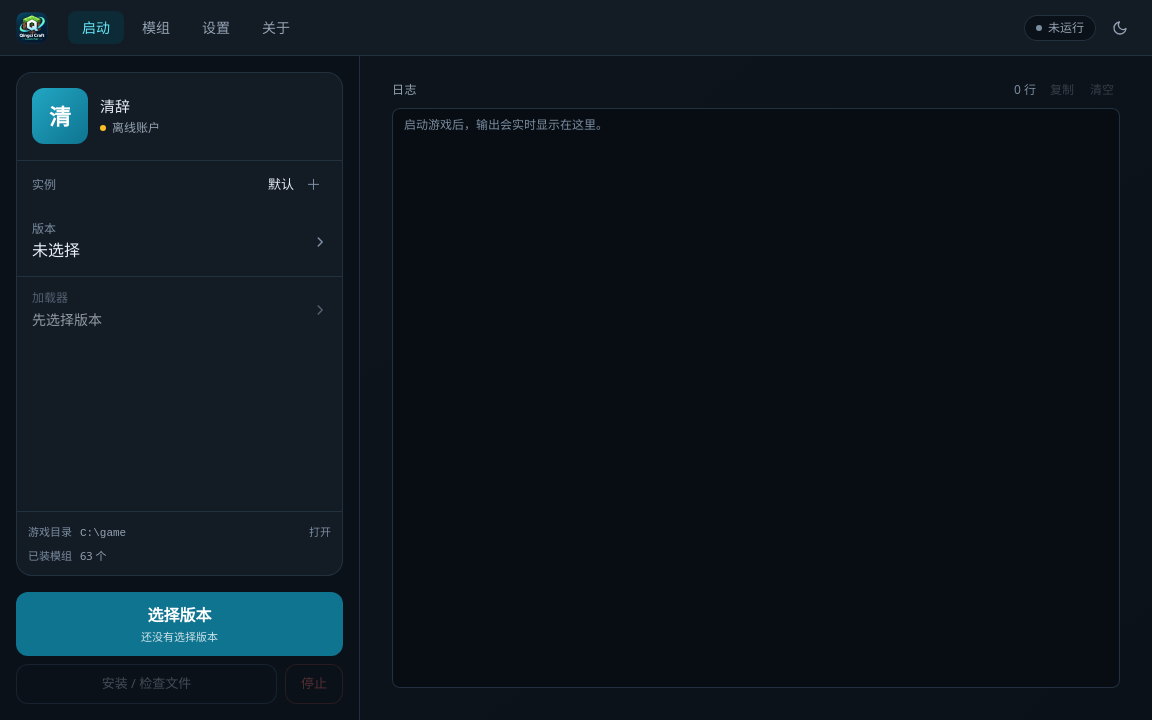
Test: LauncherView › 在选择器里搜到并选中版本后关闭选择器
Click the button with aria-label "更换版本".
click(56, 252)  # box [16,208,343,276]
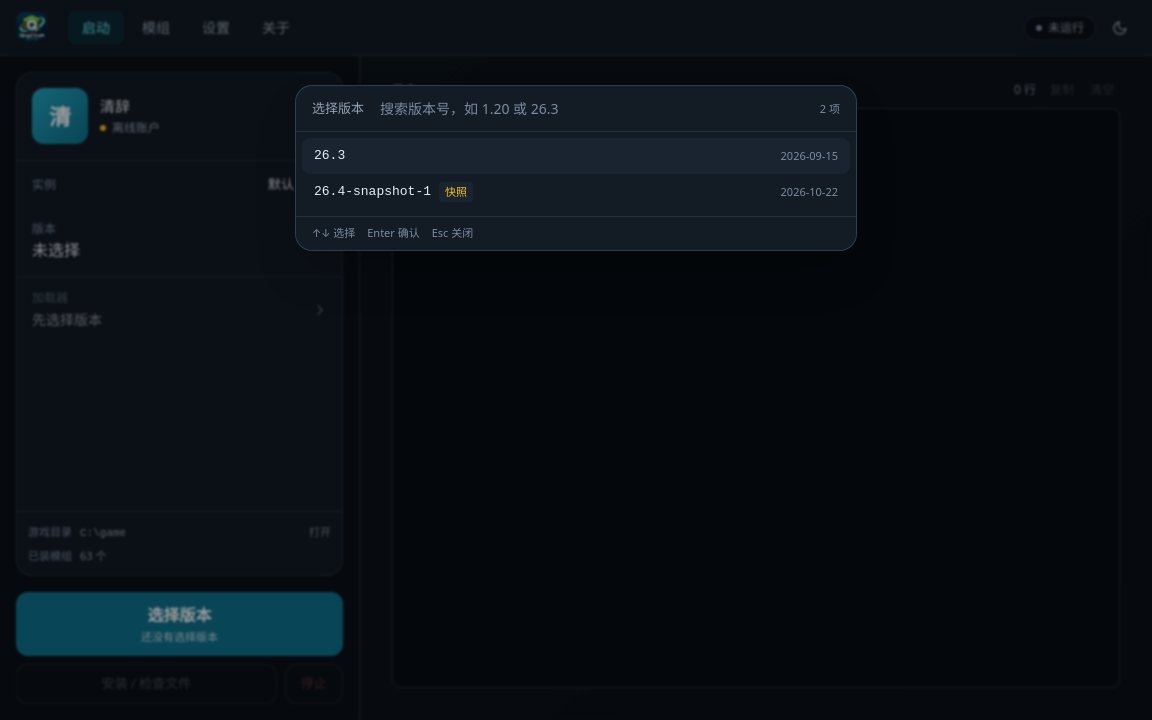
Type "26.4" into the field.
click(596, 109); type("26.4")  # box [380,98,812,119]
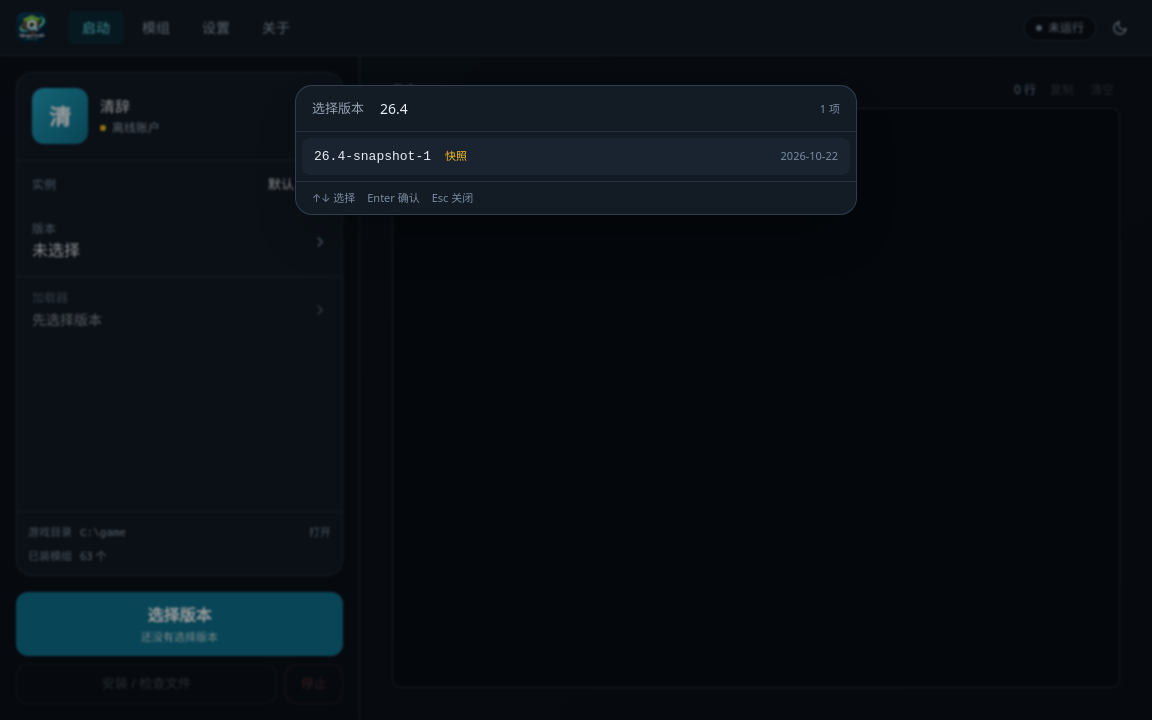
Click the text "26.4-snapshot-1".
click(372, 157)  # box [314,147,431,166]
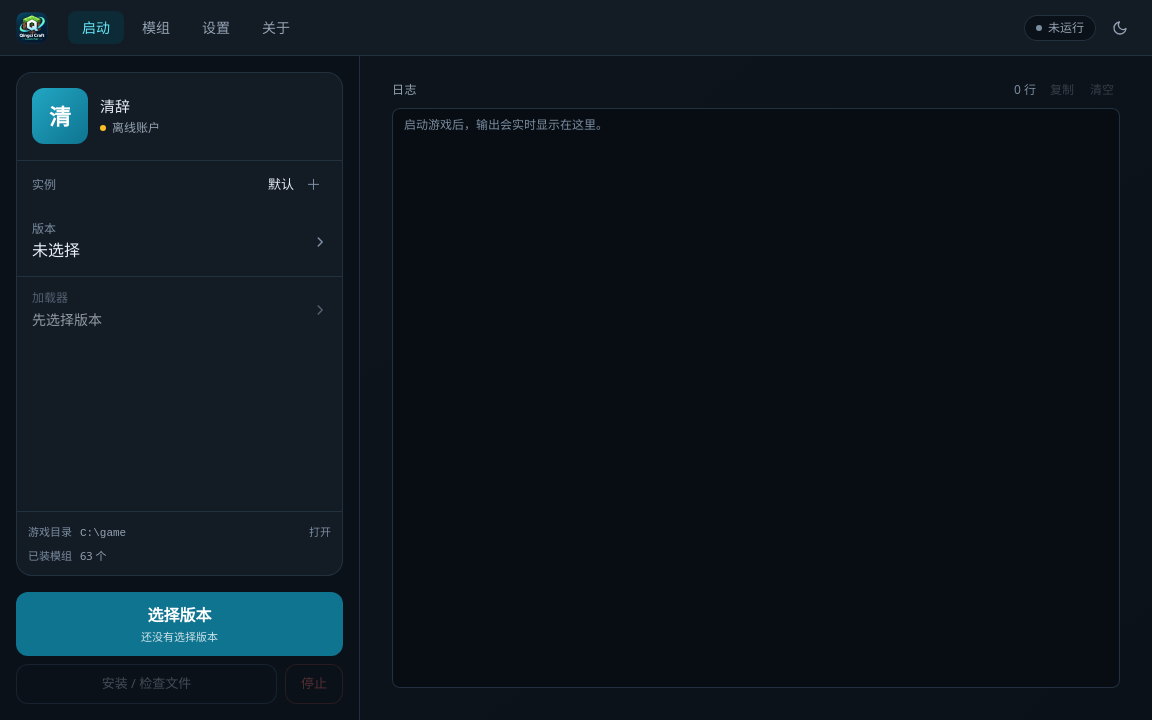
Now the field is gone
